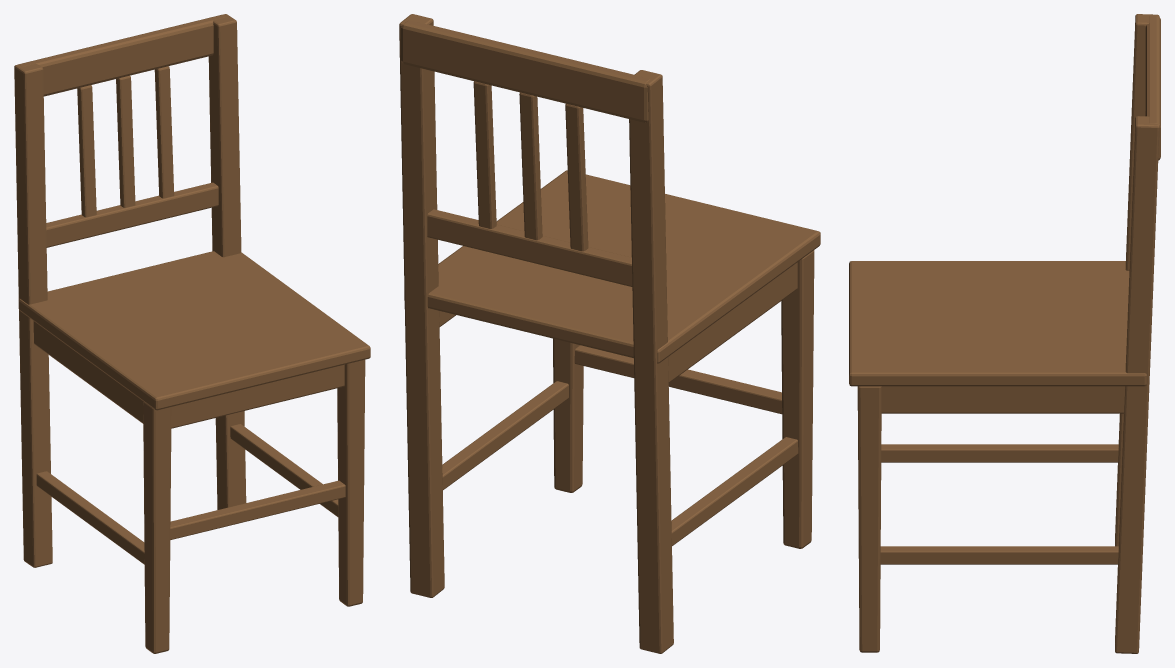
The model's file is GheAn_khoi.glb.
3 views of the same model, side by side, from view 1: azimuth 30°, elevation 25°; view 2: azimuth 150°, elevation 25°; view 3: azimuth 270°, elevation 25° (orthographic). The views are drawn at different scales.
Visible parts, largest first — view 1: geometry_0; view 2: geometry_0; view 3: geometry_0.
Boxes of the visible parts, x1,y1,x2,y2 form: geometry_0: (14,14,370,653); geometry_0: (399,14,820,653); geometry_0: (849,14,1160,653).
Bounding box in the file's own units: 0.39 × 0.846 × 0.4519.
